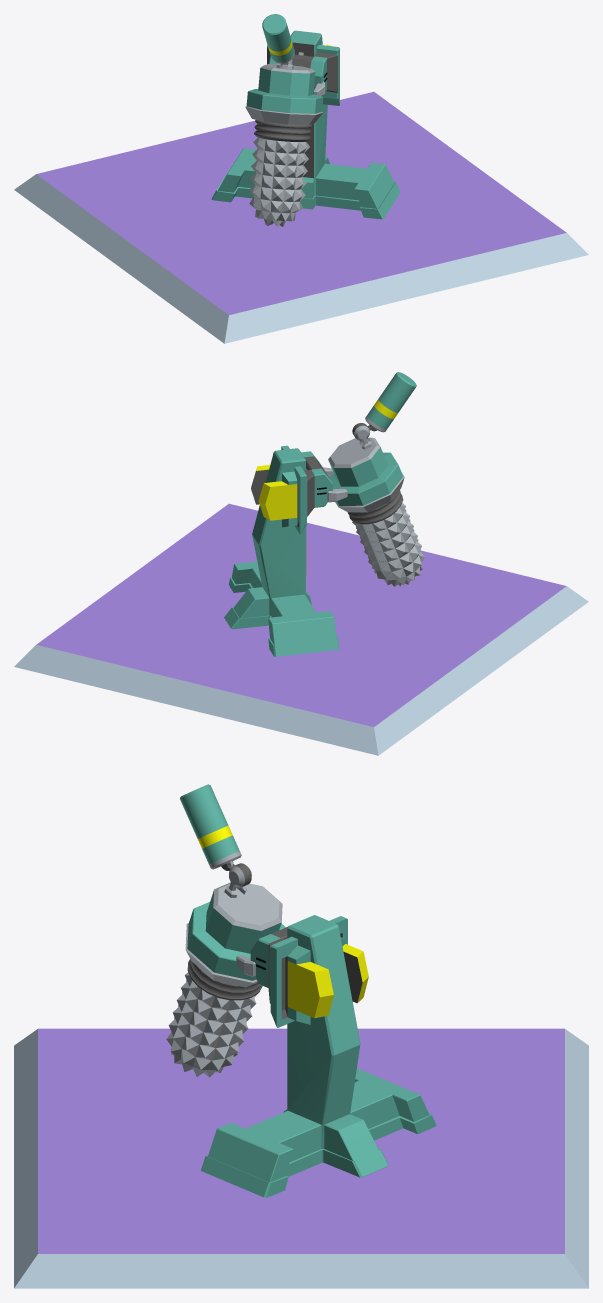
Rendered from 83_Haarvester_KEK1.fbx.
3 views of the same model, one above another, from view 1: azimuth 30°, elevation 25°; view 2: azimuth 150°, elevation 25°; view 3: azimuth 270°, elevation 25° (orthographic). The views are drawn at different scales.
Visible parts, largest first — view 1: foundation1, base1, drill, polySurface74, elevator3, pCylinder262, pSphere62, pCylinder261; view 2: foundation1, base1, drill, elevator3, polySurface74, pCylinder262, pCylinder261, pSphere62; view 3: foundation1, base1, elevator3, drill, polySurface74, pCylinder262, pCylinder261, pSphere62.
Part boxes in pixels (box(x1,y1,x2,y2)): foundation1: box(14, 91, 588, 343); base1: box(211, 30, 400, 219); drill: box(245, 64, 323, 125); polySurface74: box(249, 137, 309, 201); elevator3: box(267, 44, 339, 105); pCylinder262: box(262, 14, 294, 63); pSphere62: box(249, 197, 302, 226); pCylinder261: box(254, 120, 311, 141); foundation1: box(14, 503, 588, 755); base1: box(224, 448, 339, 656); drill: box(328, 437, 404, 512); elevator3: box(251, 445, 332, 533); polySurface74: box(352, 503, 421, 571); pCylinder262: box(365, 372, 416, 432); pCylinder261: box(347, 490, 403, 524); pSphere62: box(374, 550, 424, 586); foundation1: box(14, 1028, 588, 1288); base1: box(201, 915, 436, 1197); elevator3: box(250, 916, 368, 1027); drill: box(185, 882, 285, 987); polySurface74: box(168, 972, 260, 1060); pCylinder262: box(180, 784, 241, 869); pCylinder261: box(187, 959, 262, 1000); pSphere62: box(166, 1032, 237, 1077).
Size of the model in its own units: 2 by 1.31 by 2.
